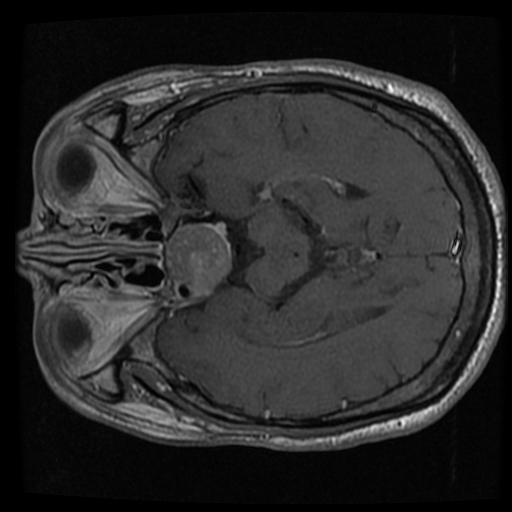pituitary tumour: (163, 225, 230, 294)
